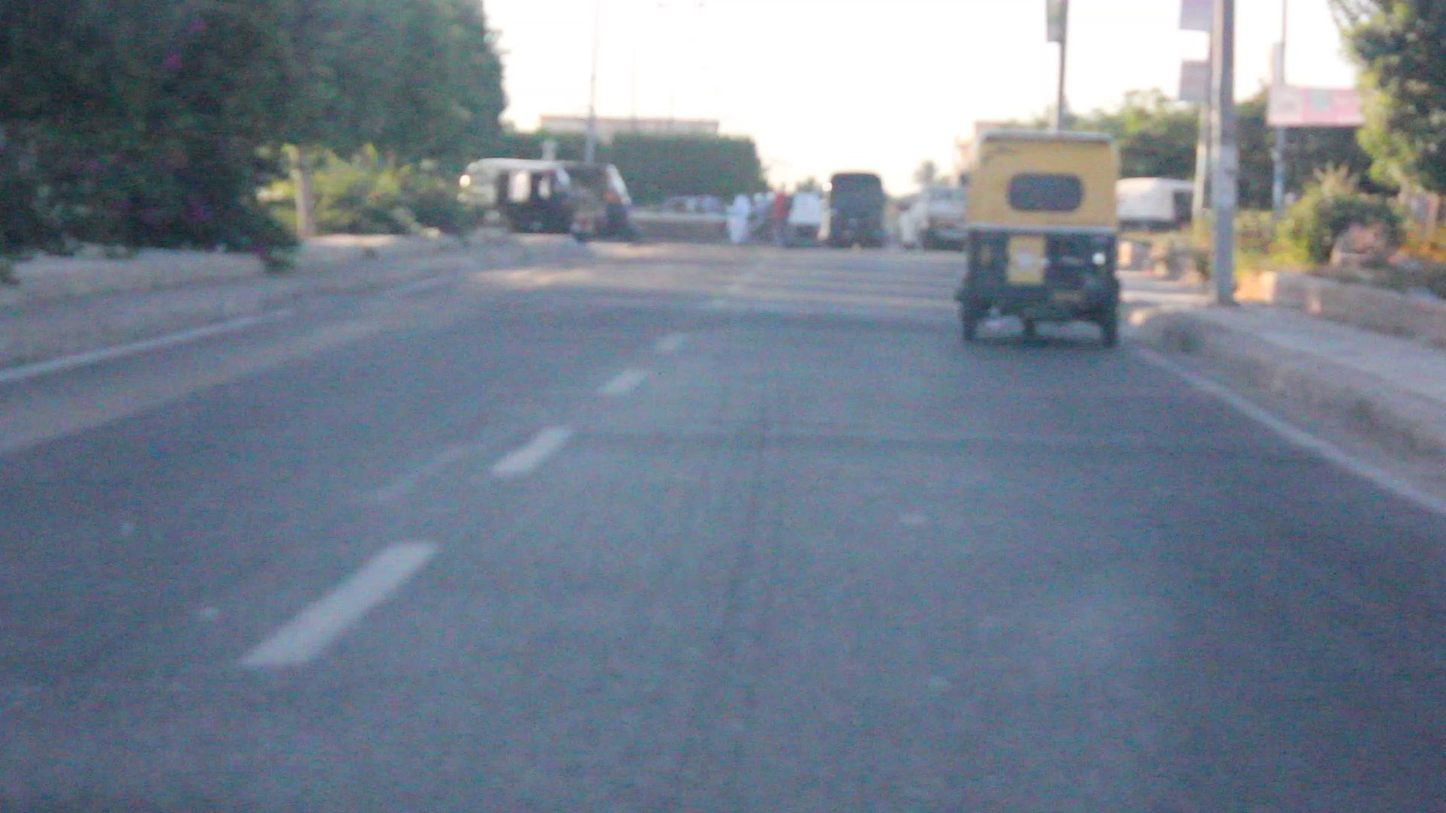Bump: (274, 289, 964, 338)
